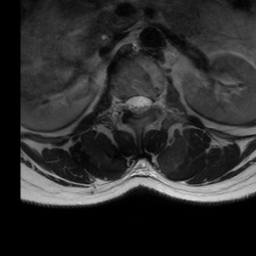CCS_normal: (133, 88, 141, 120)
LFS_normal: (151, 88, 160, 116)
LLS_normal: (141, 88, 151, 117)
RFS_normal: (117, 88, 125, 117)
RLS_normal: (125, 88, 133, 118)
